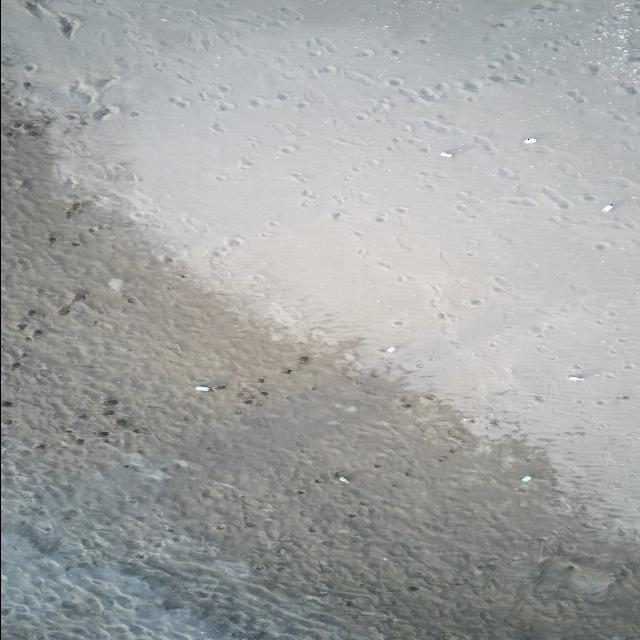Garbage: (334, 472, 350, 483), (567, 369, 584, 379), (195, 384, 211, 391), (520, 473, 532, 482), (600, 203, 612, 212), (337, 475, 350, 483), (523, 136, 536, 143), (440, 151, 451, 158), (384, 347, 395, 352)
